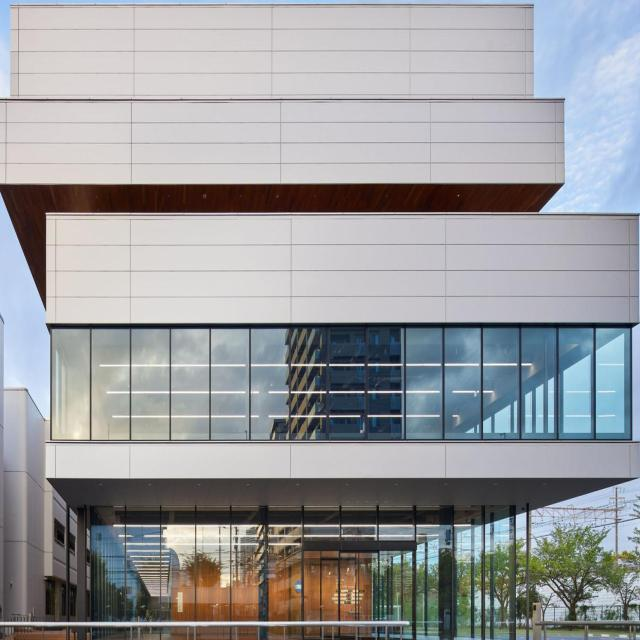door: (320, 557, 360, 639)
window: (51, 329, 632, 444), (90, 504, 531, 640)
